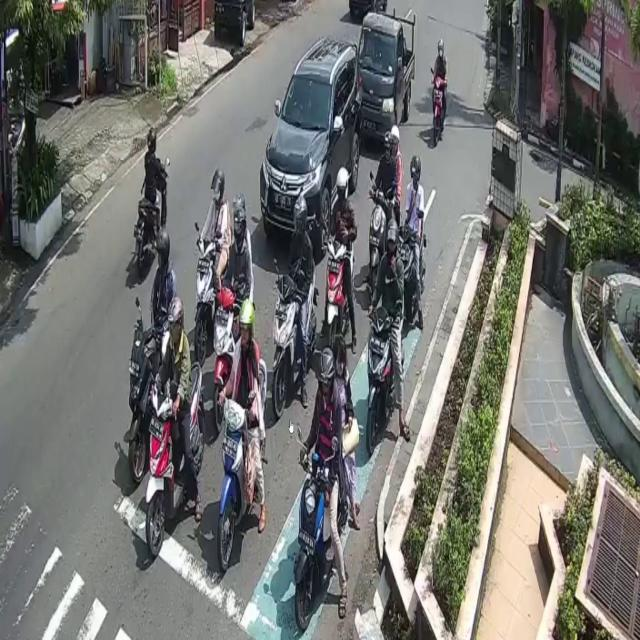bus: (147, 360, 203, 562), (220, 356, 268, 562), (272, 264, 316, 432), (128, 321, 162, 487), (300, 450, 331, 631), (365, 307, 394, 459), (134, 160, 168, 276), (194, 226, 216, 357), (327, 240, 352, 349), (433, 76, 446, 139)
motorcycle: (261, 38, 363, 250), (356, 11, 414, 138)
